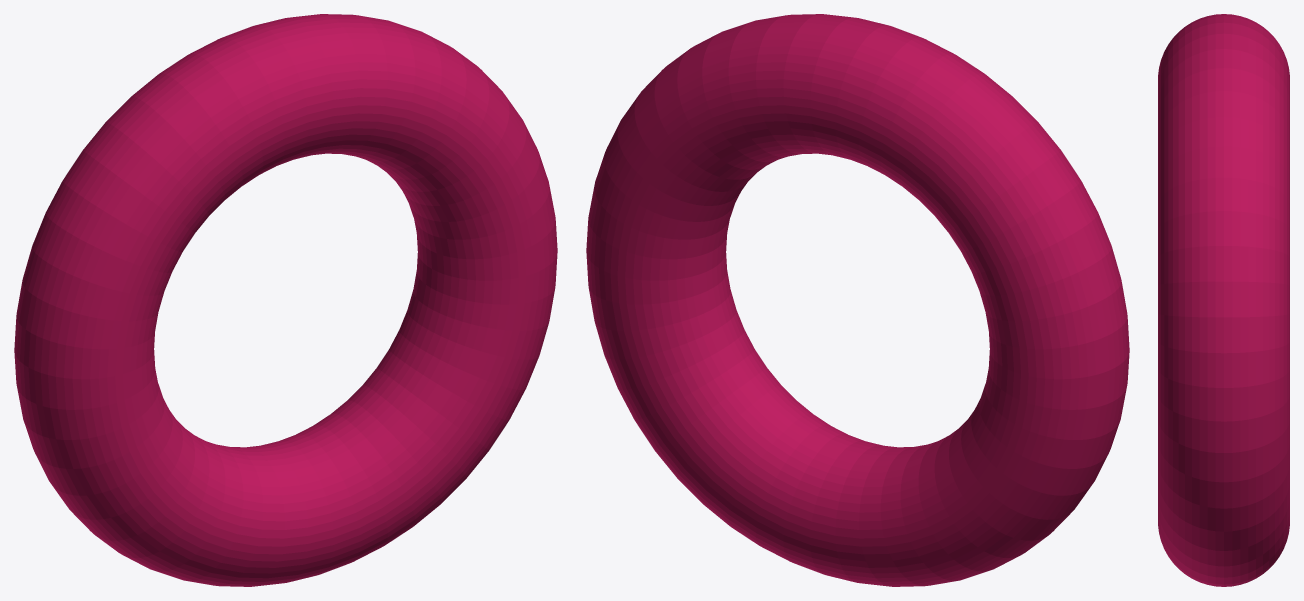
3 renders of one model, left to right at view 1: azimuth 30°, elevation 25°; view 2: azimuth 150°, elevation 25°; view 3: azimuth 270°, elevation 25°, orthographic. The views are drawn at different scales.
Parts seen in each view (by area): view 1: world; view 2: world; view 3: world.
Part boxes in pixels (box(x1,y1,x2,y2)): world: box(14, 14, 557, 586); world: box(586, 14, 1129, 586); world: box(1158, 14, 1289, 586).
Size of the model in its own units: 36.4 by 36.33 by 8.38.
